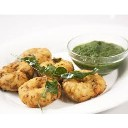vada: (17, 76, 62, 107), (66, 69, 106, 102), (1, 63, 35, 90), (18, 47, 51, 65), (39, 59, 75, 74)
